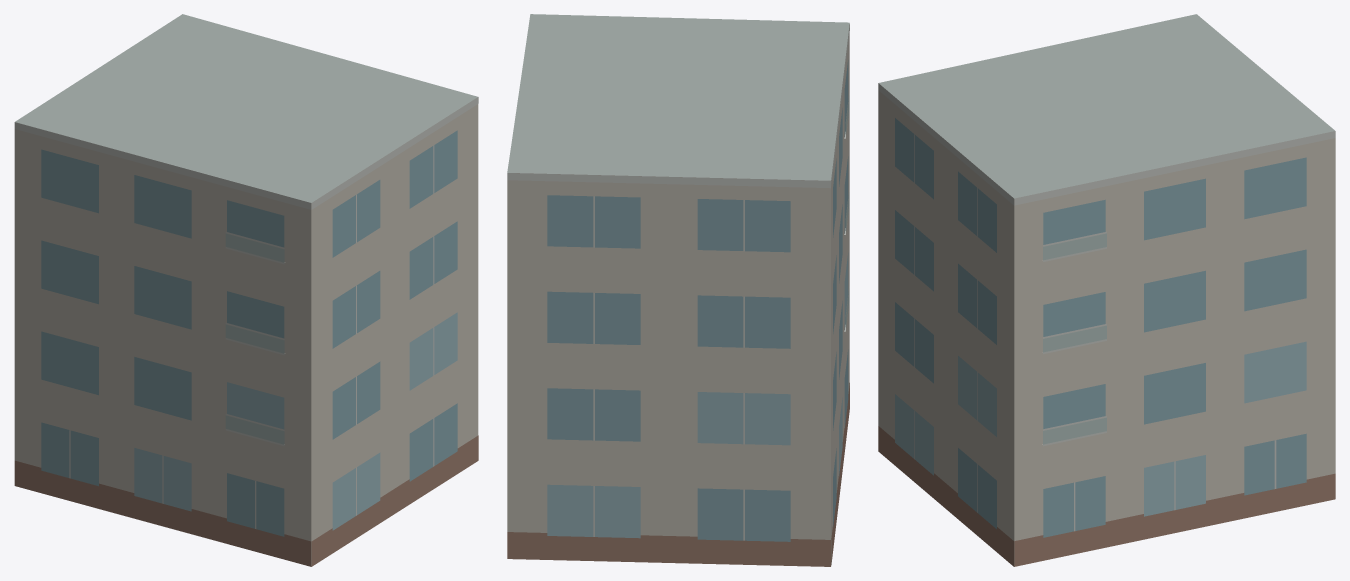
File: survey-upis-32859724.glb
3 views of the same model, side by side, from view 1: azimuth 30°, elevation 25°; view 2: azimuth 150°, elevation 25°; view 3: azimuth 270°, elevation 25° (orthographic). The views are drawn at different scales.
Visible parts, largest first — view 1: survey-upis-32859724.tmp; view 2: survey-upis-32859724.tmp; view 3: survey-upis-32859724.tmp.
Boxes of the visible parts, x1,y1,x2,y2 form: survey-upis-32859724.tmp: [14, 14, 478, 566]; survey-upis-32859724.tmp: [507, 14, 849, 566]; survey-upis-32859724.tmp: [878, 14, 1335, 566].
Size of the model in its own units: 13.66 by 12.7 by 14.3.
